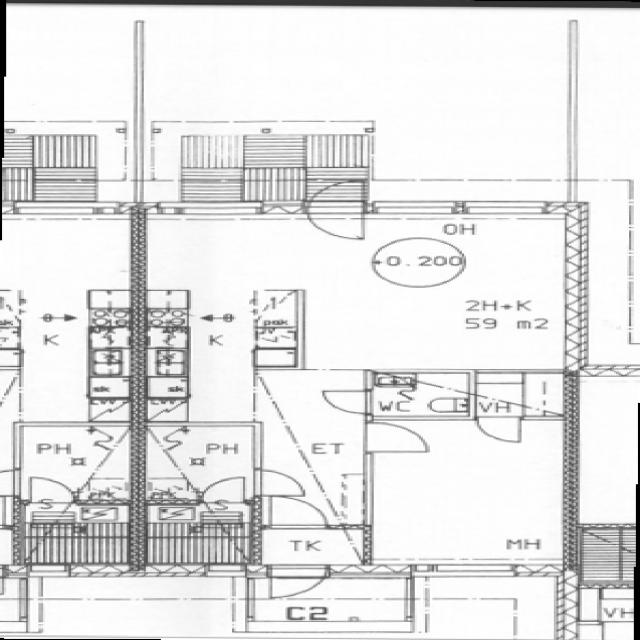door: (145, 425, 258, 504), (365, 370, 475, 420), (301, 178, 372, 244), (258, 562, 330, 601), (360, 420, 437, 456), (263, 494, 330, 530), (317, 386, 380, 416), (248, 466, 308, 497), (470, 415, 531, 445), (24, 474, 76, 504), (200, 474, 252, 503)
window: (367, 200, 568, 218), (148, 200, 289, 222), (421, 560, 522, 580), (3, 205, 124, 221)
zone: (147, 220, 589, 371), (364, 416, 575, 570), (407, 570, 567, 639), (16, 423, 133, 502), (141, 424, 258, 503), (19, 500, 141, 572), (142, 500, 257, 572), (368, 371, 477, 420), (476, 371, 574, 421), (255, 526, 369, 567), (573, 524, 639, 586), (578, 584, 638, 639)
